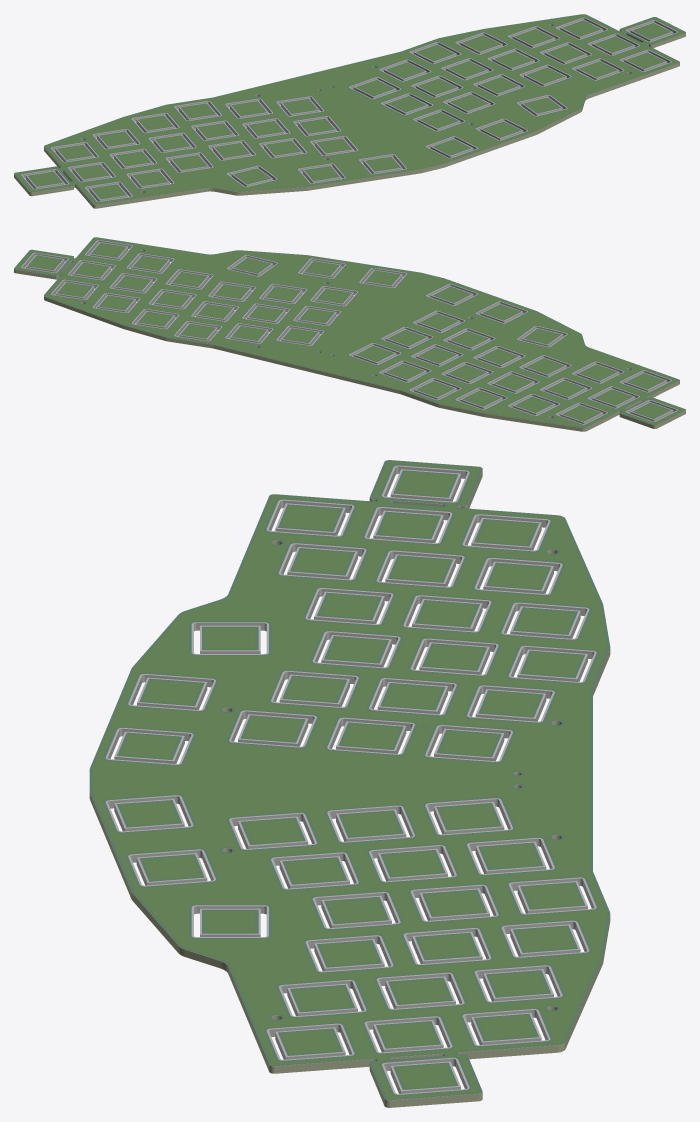
File: board.glb
The picture shows the model from 3 angles, top to bottom: view 1: azimuth 30°, elevation 25°; view 2: azimuth 150°, elevation 25°; view 3: azimuth 270°, elevation 25°; orthographic projection. The views are drawn at different scales.
Visible parts, largest first — view 1: board_soldermask, board_copper, board_pad, board_PCB; view 2: board_soldermask, board_copper, board_pad, board_PCB; view 3: board_soldermask, board_copper, board_pad, board_PCB.
Part boxes in pixels (bbox=[...]): board_soldermask: bbox=[14, 14, 685, 204]; board_copper: bbox=[16, 15, 683, 203]; board_pad: bbox=[21, 17, 677, 201]; board_PCB: bbox=[14, 17, 685, 208]; board_soldermask: bbox=[14, 237, 685, 427]; board_copper: bbox=[16, 238, 682, 426]; board_pad: bbox=[21, 240, 677, 424]; board_PCB: bbox=[14, 238, 685, 431]; board_soldermask: bbox=[89, 460, 610, 1100]; board_copper: bbox=[93, 462, 606, 1098]; board_pad: bbox=[105, 465, 596, 1094]; board_PCB: bbox=[89, 461, 610, 1107].
Size of the model in its own units: 0.2899 by 0.00161 by 0.0996.
